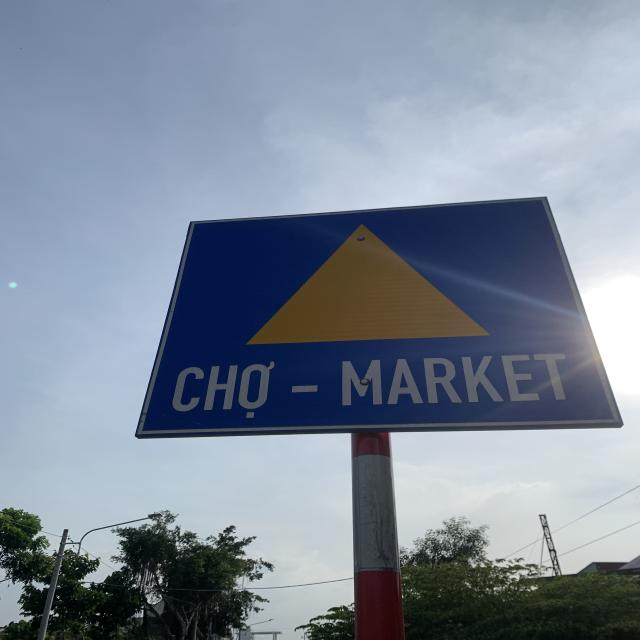Cho_Quay_Xe: (139, 194, 618, 434)
